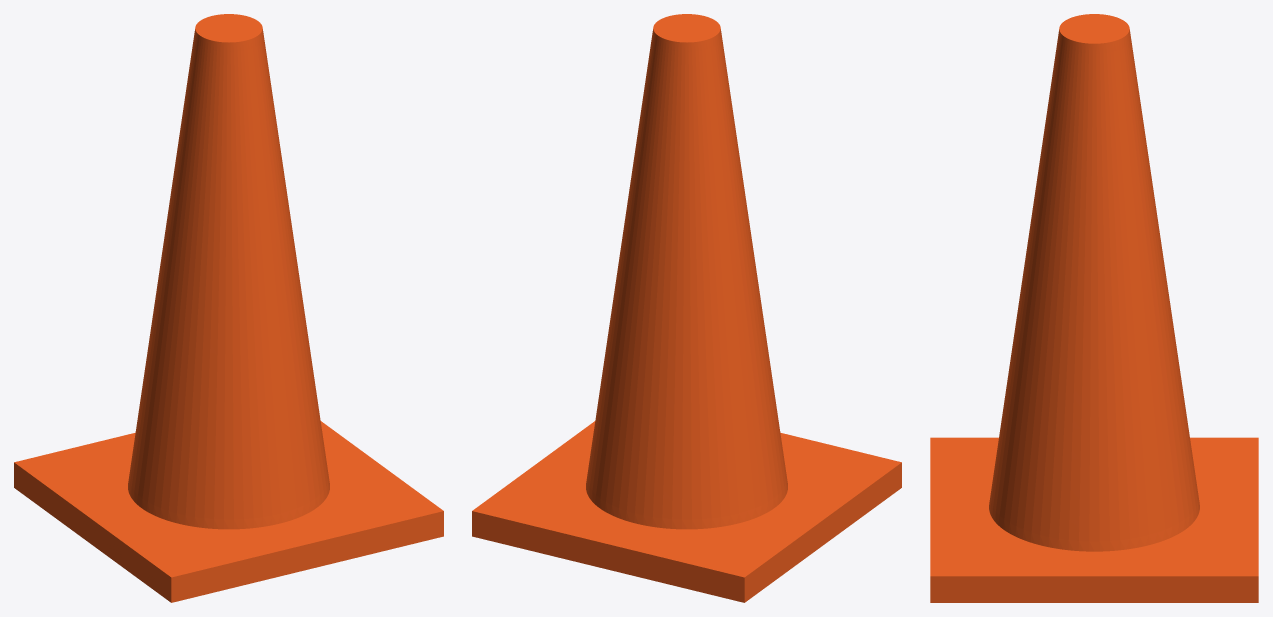
3 views of the same model, side by side, from view 1: azimuth 30°, elevation 25°; view 2: azimuth 150°, elevation 25°; view 3: azimuth 270°, elevation 25° (orthographic). The views are drawn at different scales.
Parts seen in each view (by area): view 1: node0; view 2: node0; view 3: node0.
Part boxes in pixels (bbox=[...]): node0: bbox=[14, 14, 443, 602]; node0: bbox=[472, 14, 901, 602]; node0: bbox=[930, 14, 1258, 602].
Size of the model in its own units: 0.28 by 0.28 by 0.475.
